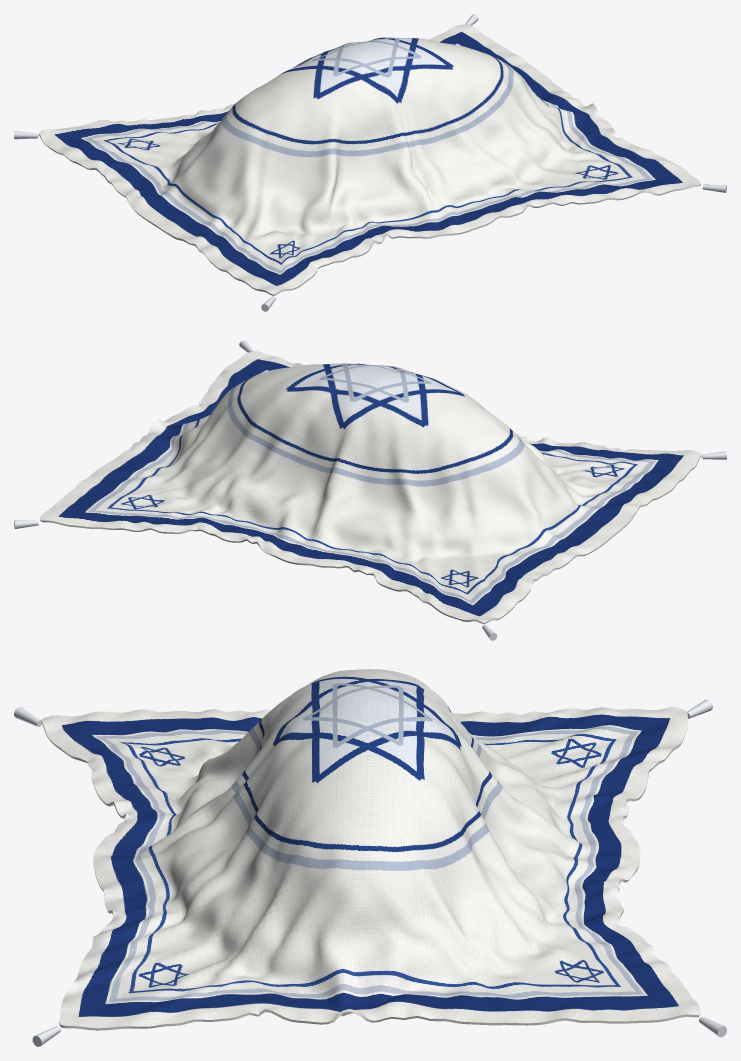
File: challah.glb
The picture shows the model from 3 angles, top to bottom: view 1: azimuth 30°, elevation 25°; view 2: azimuth 150°, elevation 25°; view 3: azimuth 270°, elevation 25°; orthographic projection. The views are drawn at different scales.
Parts seen in each view (by area): view 1: Challah_Cover_Group; view 2: Challah_Cover_Group; view 3: Challah_Cover_Group.
Part boxes in pixels (<box>): Challah_Cover_Group: <box>14,14,726,311</box>; Challah_Cover_Group: <box>14,340,726,640</box>; Challah_Cover_Group: <box>14,669,726,1046</box>.
Bounding box in the file's own units: 0.4216 × 0.0987 × 0.3744.
4 materials, 3 textured.
